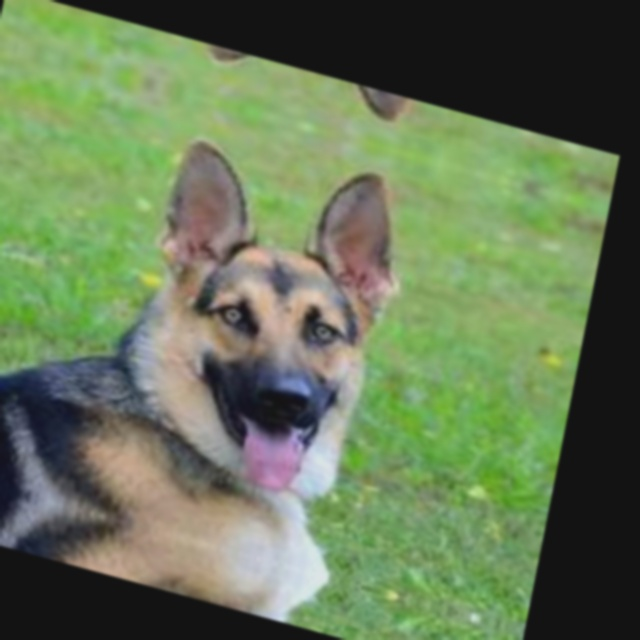dog: (0, 84, 550, 609), (74, 9, 565, 171), (0, 490, 469, 640)
